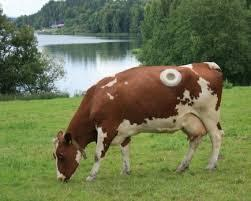cow: (53, 64, 221, 182)
